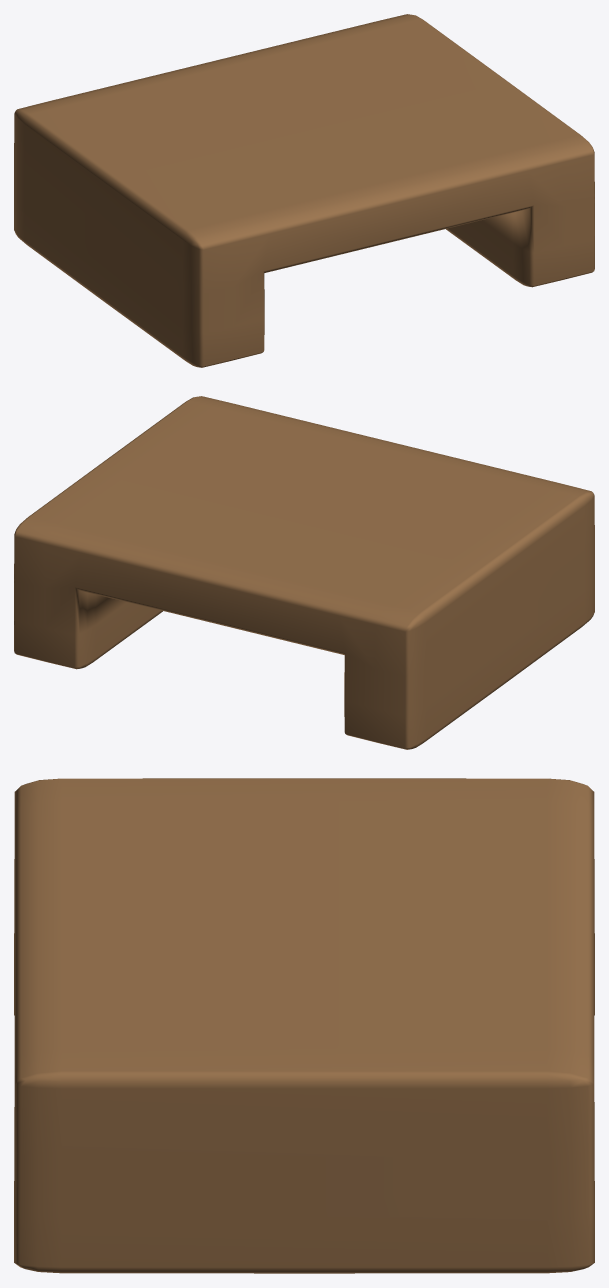
The model's file is ReliefHousing-inner.fbx.
The picture shows the model from 3 angles, top to bottom: view 1: azimuth 30°, elevation 25°; view 2: azimuth 150°, elevation 25°; view 3: azimuth 270°, elevation 25°; orthographic projection. The views are drawn at different scales.
Visible parts, largest first — view 1: ReliefHousing-inner_Baked; view 2: ReliefHousing-inner_Baked; view 3: ReliefHousing-inner_Baked.
Boxes of the visible parts, left/top/right/bottom form: ReliefHousing-inner_Baked: left=14, top=14, right=594, bottom=367; ReliefHousing-inner_Baked: left=14, top=396, right=594, bottom=749; ReliefHousing-inner_Baked: left=14, top=778, right=594, bottom=1273.
Size of the model in its own units: 3.07 by 0.9599 by 2.51.
1 material, 1 textured.
